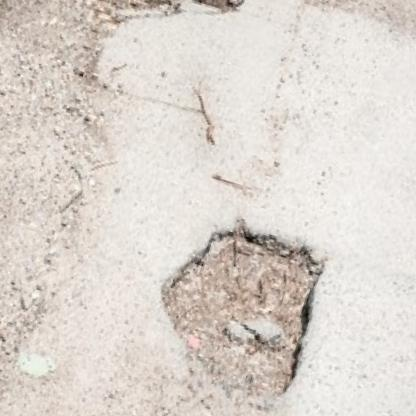pothole: (136, 202, 340, 416), (55, 0, 267, 60)
